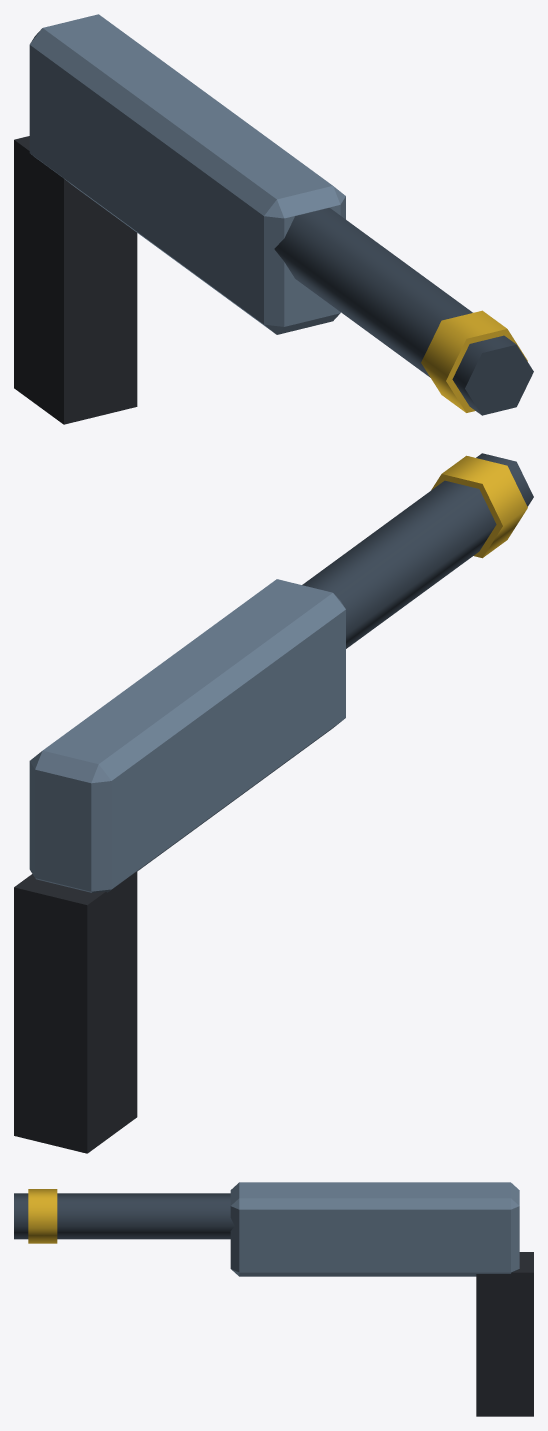
The picture shows the model from 3 angles, top to bottom: view 1: azimuth 30°, elevation 25°; view 2: azimuth 150°, elevation 25°; view 3: azimuth 270°, elevation 25°; orthographic projection. The views are drawn at different scales.
Visible parts, largest first — view 1: dweller_weapon_pipe_pistol; view 2: dweller_weapon_pipe_pistol; view 3: dweller_weapon_pipe_pistol.
Boxes of the visible parts, x1=… form: dweller_weapon_pipe_pistol: x1=14, y1=14, x2=533, y2=424; dweller_weapon_pipe_pistol: x1=14, y1=453, x2=533, y2=1153; dweller_weapon_pipe_pistol: x1=14, y1=1182, x2=533, y2=1416.
Size of the model in its own units: 0.038 by 0.165 by 0.36.
